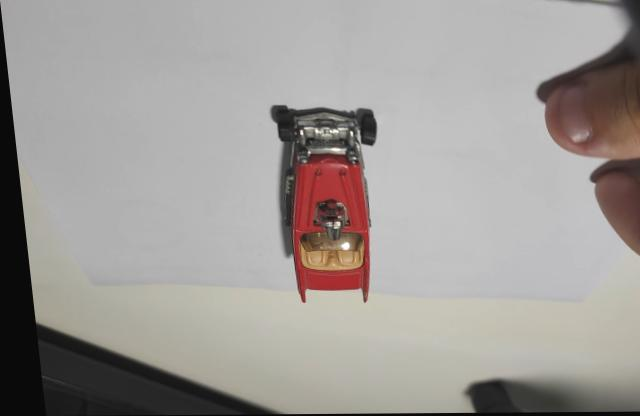03_V8: (267, 104, 376, 302)
